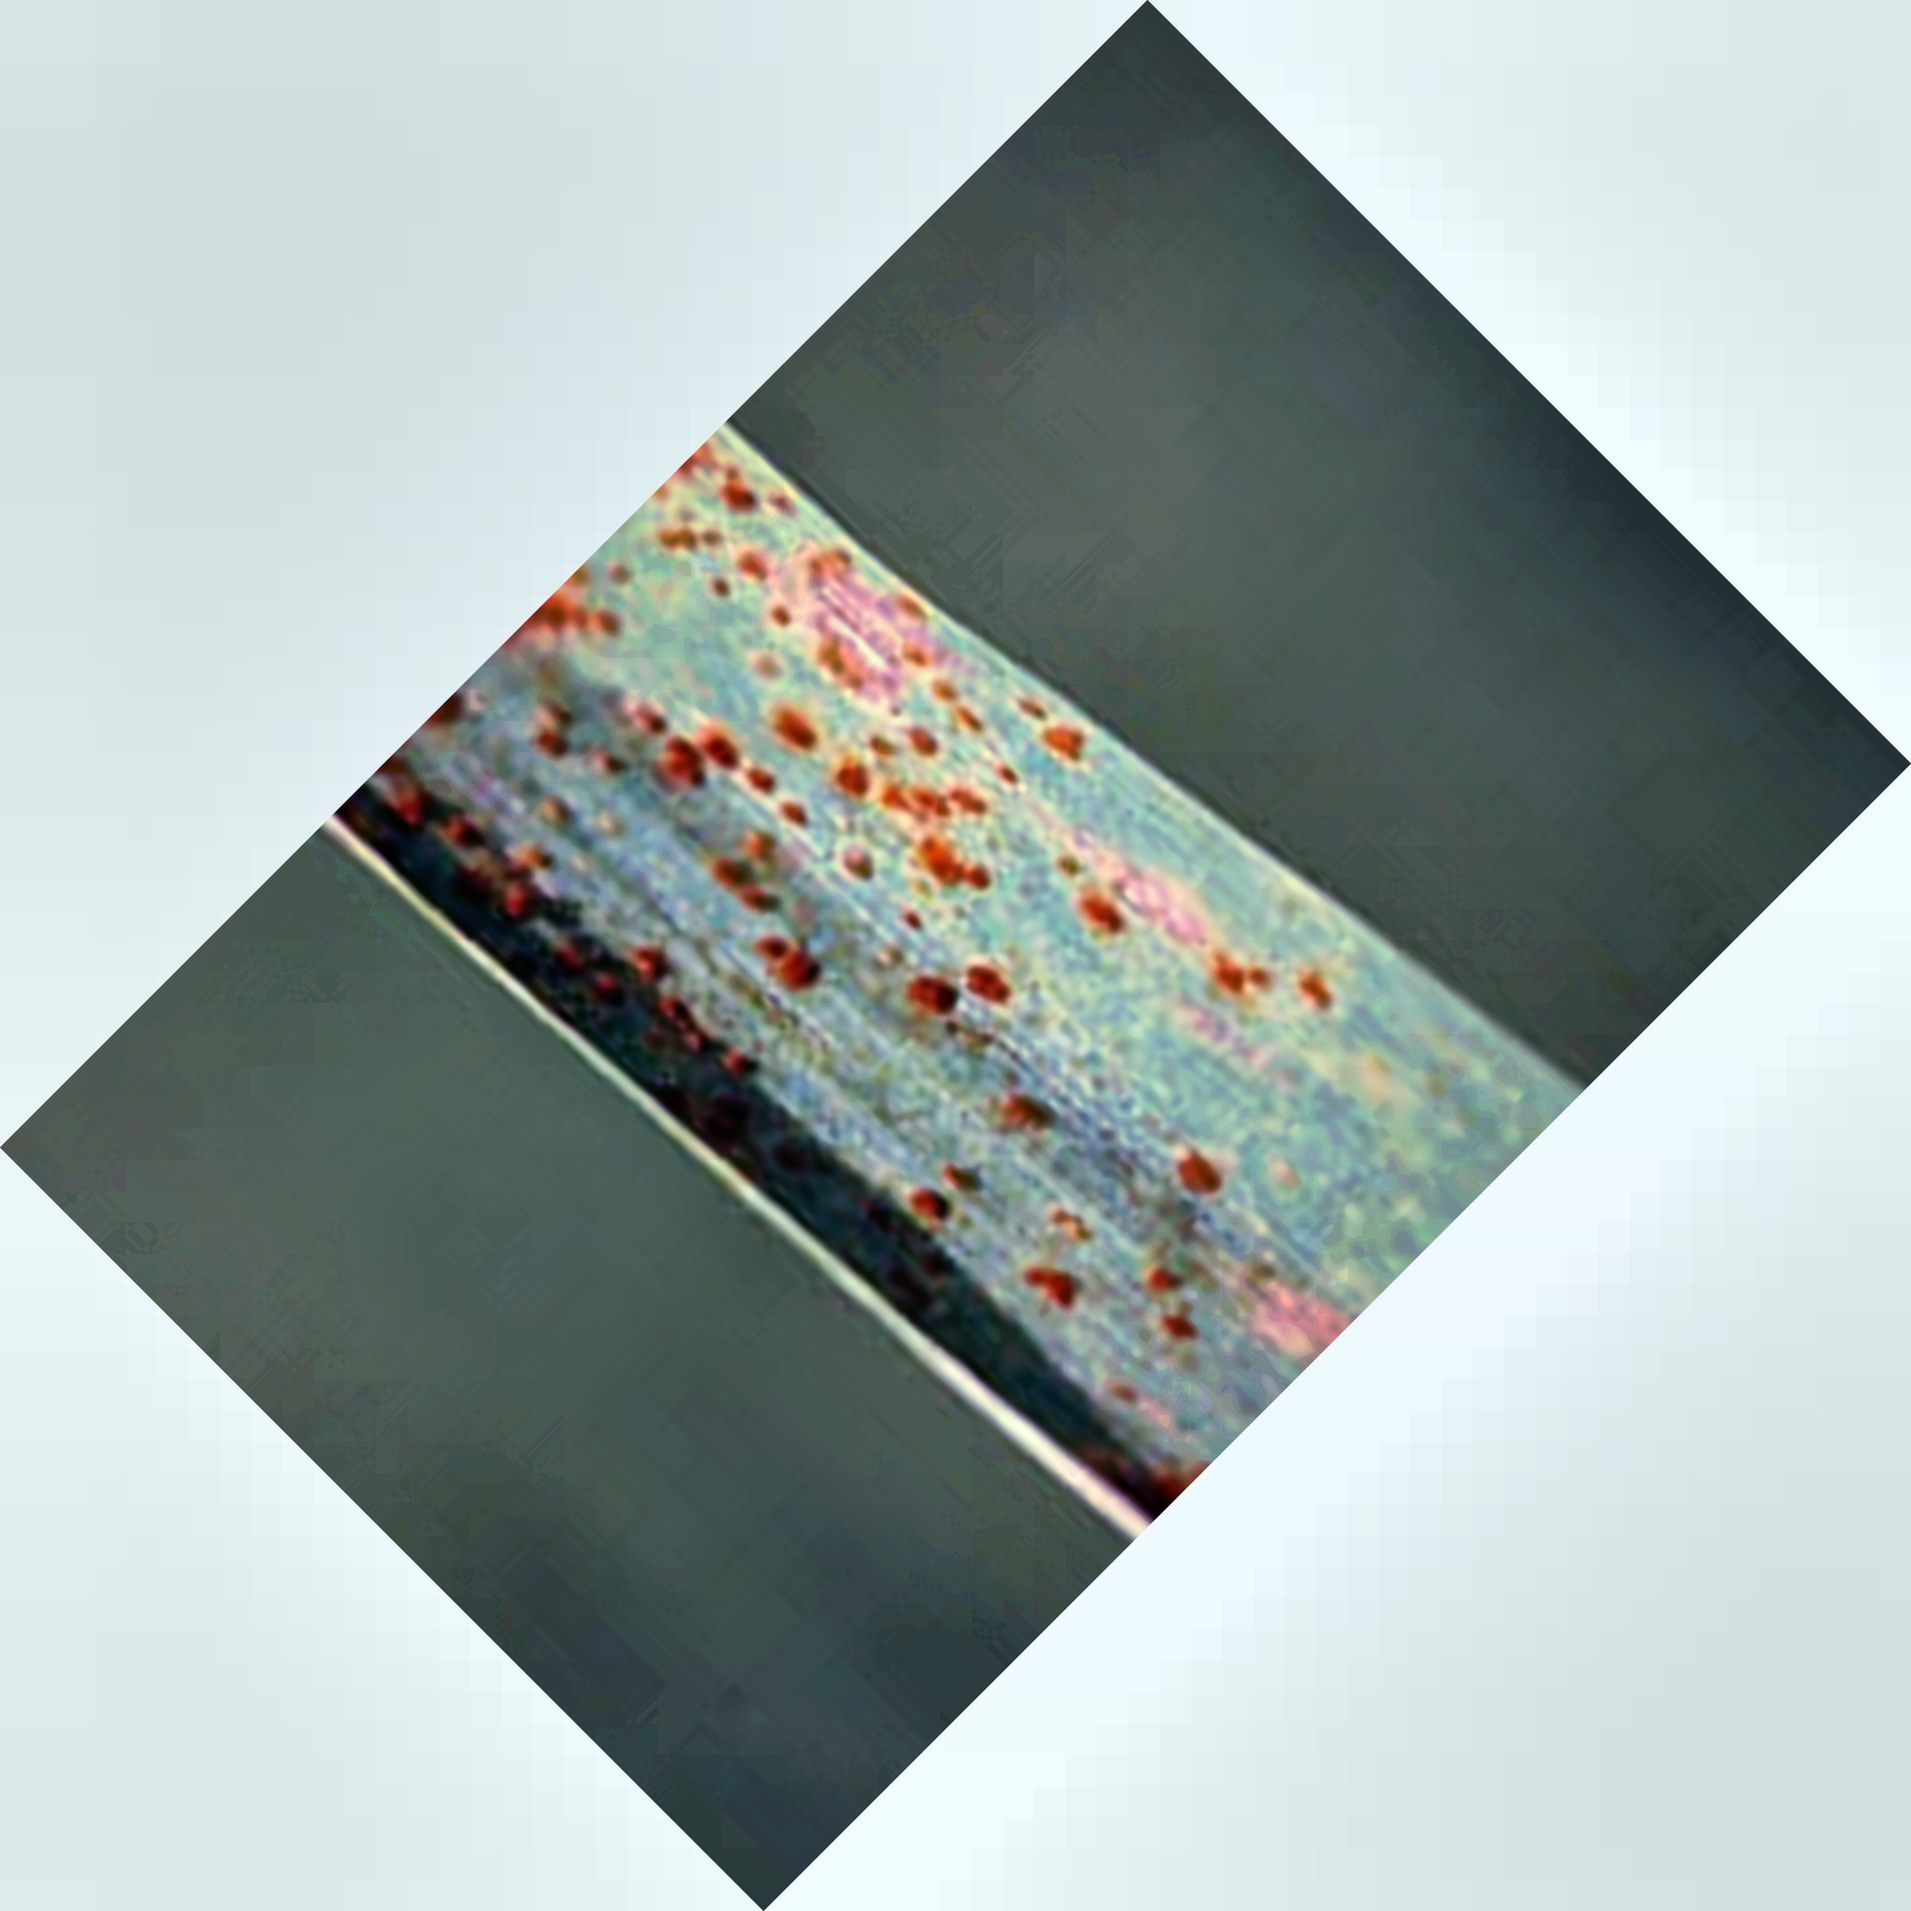Leaf Rust: (394, 474, 1284, 1412)
